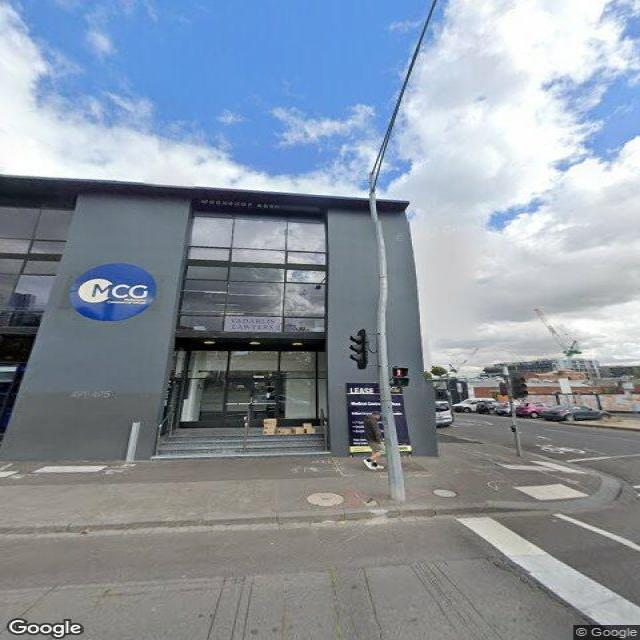mid mount suitable pole: (347, 172, 409, 508)
steel-pole: (369, 172, 408, 506), (500, 364, 523, 458)
traffic-light: (349, 330, 369, 369), (510, 375, 527, 399), (391, 367, 409, 388)
